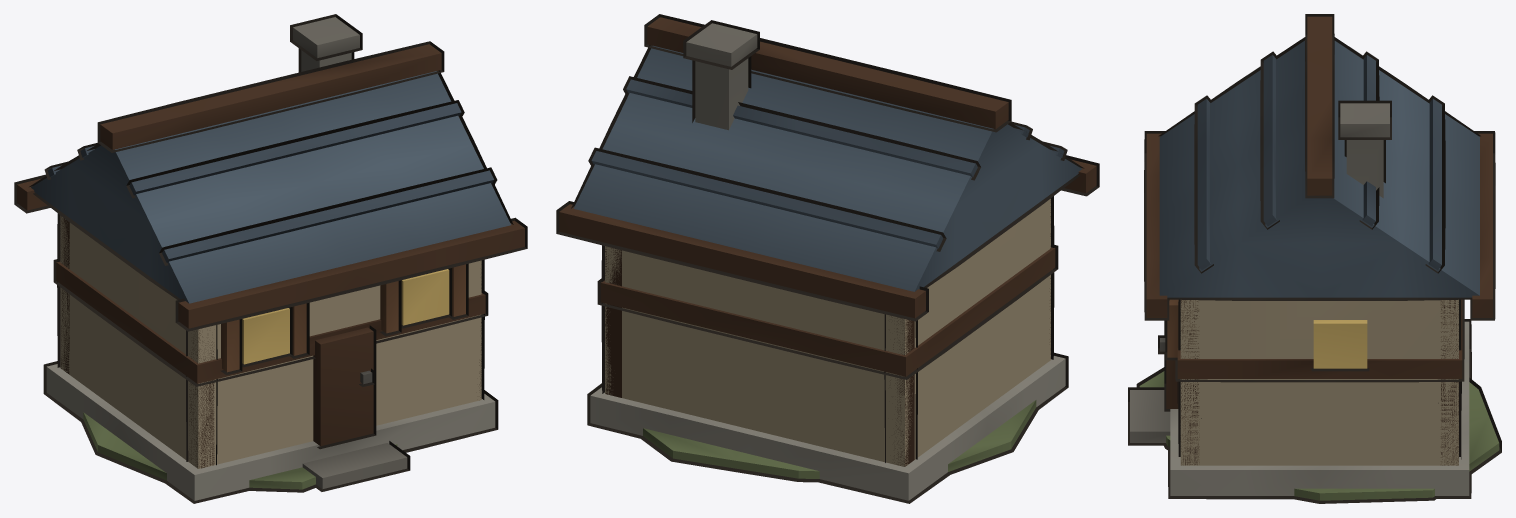
File: maison_petite.glb
The picture shows the model from 3 angles, left to right: view 1: azimuth 30°, elevation 25°; view 2: azimuth 150°, elevation 25°; view 3: azimuth 270°, elevation 25°; orthographic projection. The views are drawn at different scales.
Visible parts, largest first — view 1: maison_petite, maison_petite_outline; view 2: maison_petite, maison_petite_outline; view 3: maison_petite, maison_petite_outline.
Boxes of the visible parts, x1,y1,x2,y2 form: maison_petite: (17, 17, 524, 500); maison_petite_outline: (14, 14, 527, 503); maison_petite: (559, 17, 1096, 500); maison_petite_outline: (556, 14, 1099, 503); maison_petite: (1130, 16, 1499, 500); maison_petite_outline: (1128, 14, 1501, 503).
Bounding box in the file's own units: 1.6 × 1.54 × 1.49.
